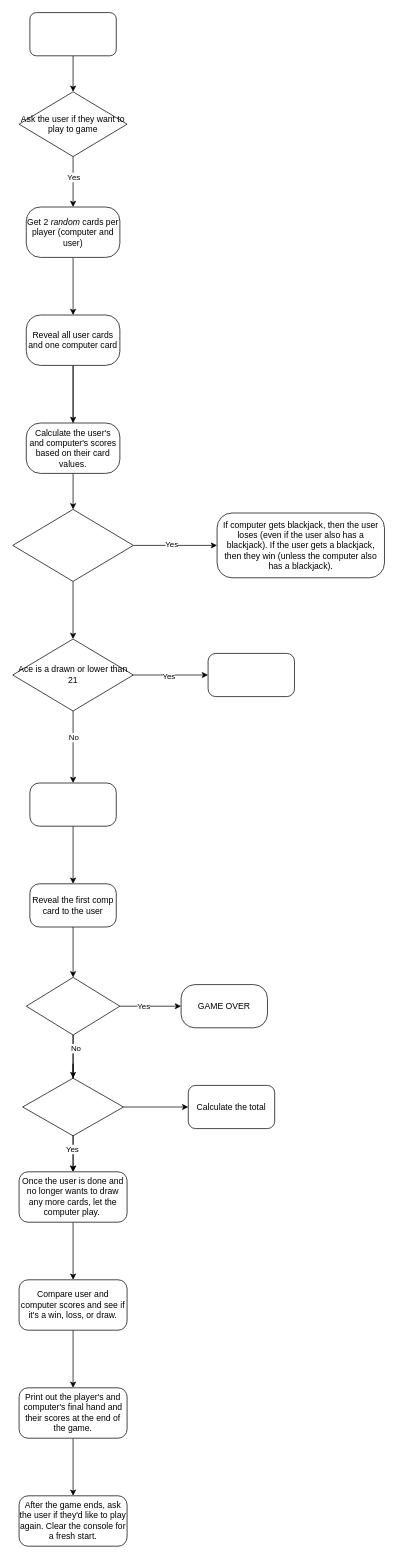
Some shapes in this 397 by 1559 pixel diagram are drawn without their labels. Each missing label, with the centre of its shape:
"Ask the user if they want to get another card" belongs at (x=72, y=1106).
"Cards total>21 or blackjack" belongs at (x=73, y=1006).
"Count as 1" belongs at (x=72, y=804).
"Count as 11" belongs at (x=250, y=675).
"Detect if the user or computer has a blackjack (Ace + 10)" belongs at (x=72, y=545).
"START" belongs at (x=72, y=34).
